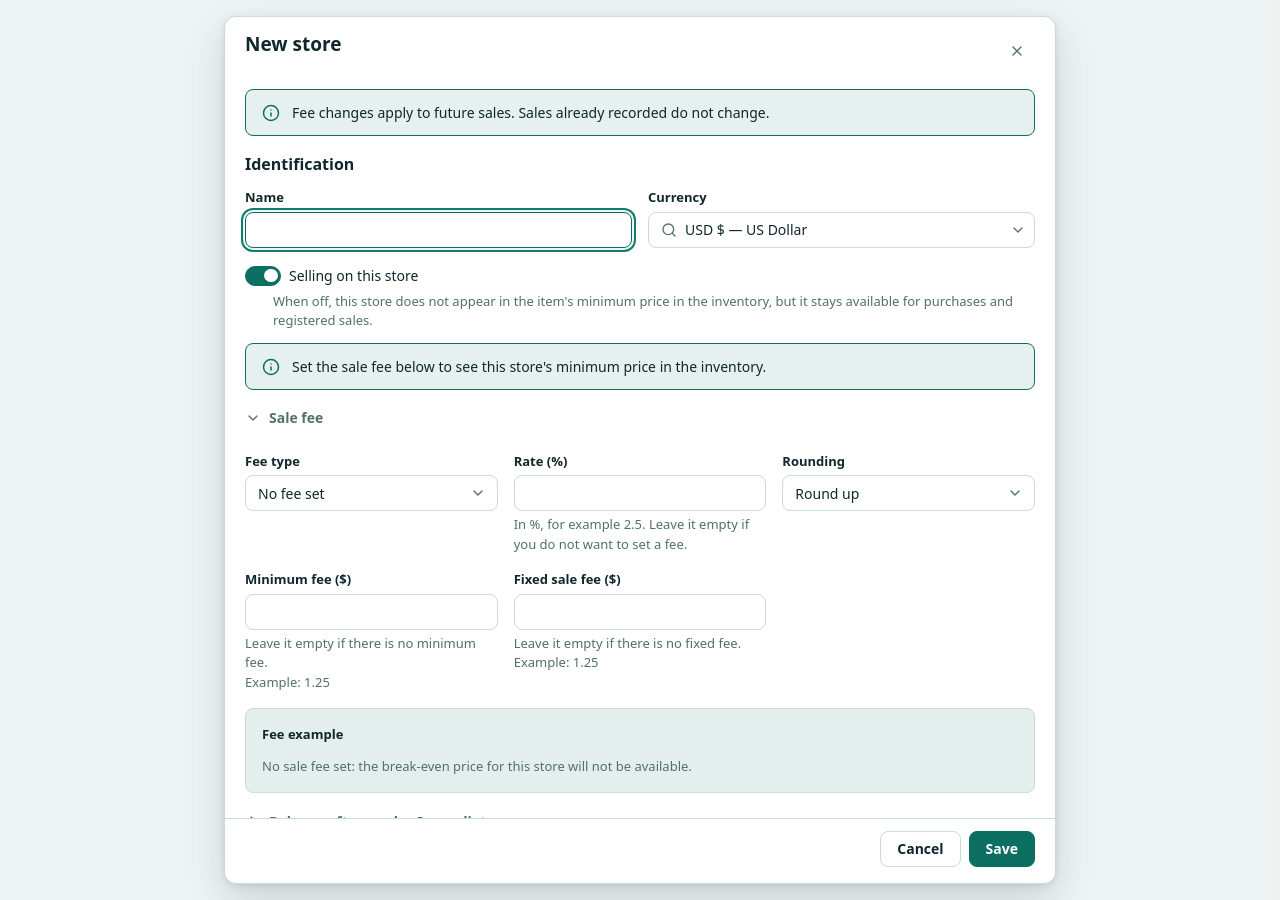
Scenario: exemplo ao vivo da taxa › o erro da prévia fica discreto no exemplo e não bloqueia o salvar
Select "Deducted from the price" in the dropdown labelled "Fee type" at (371, 493), box [245,475,498,511]
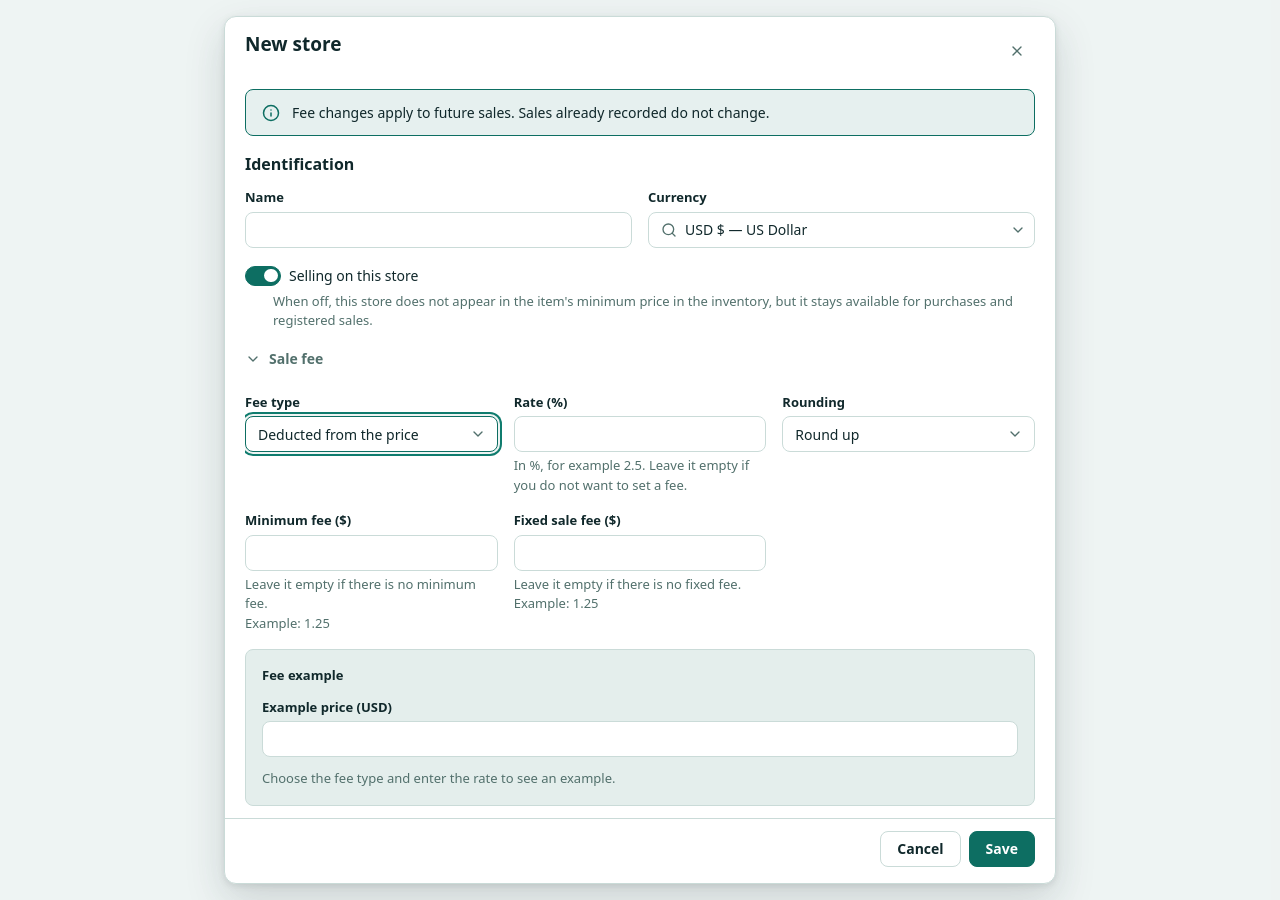
Type "2" into the field labelled "Rate (%)".
click(640, 434); type("2")  # box [527,417,753,451]
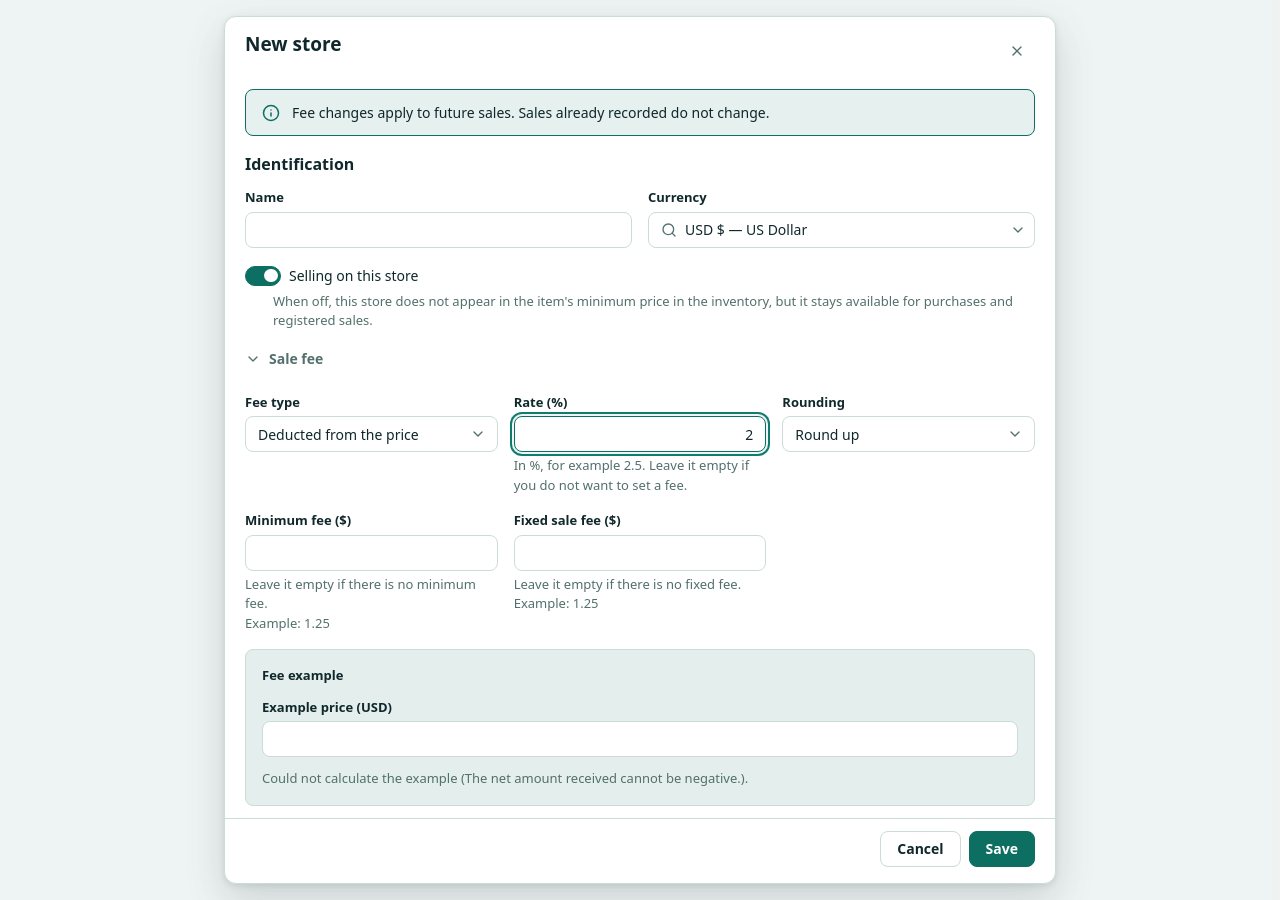
Check: the button "Save" is enabled, box [969,831,1035,867]
Check: the text "Could not calculate the example (The net amount received cannot be negative.)." is shown, box [262,769,748,787]
